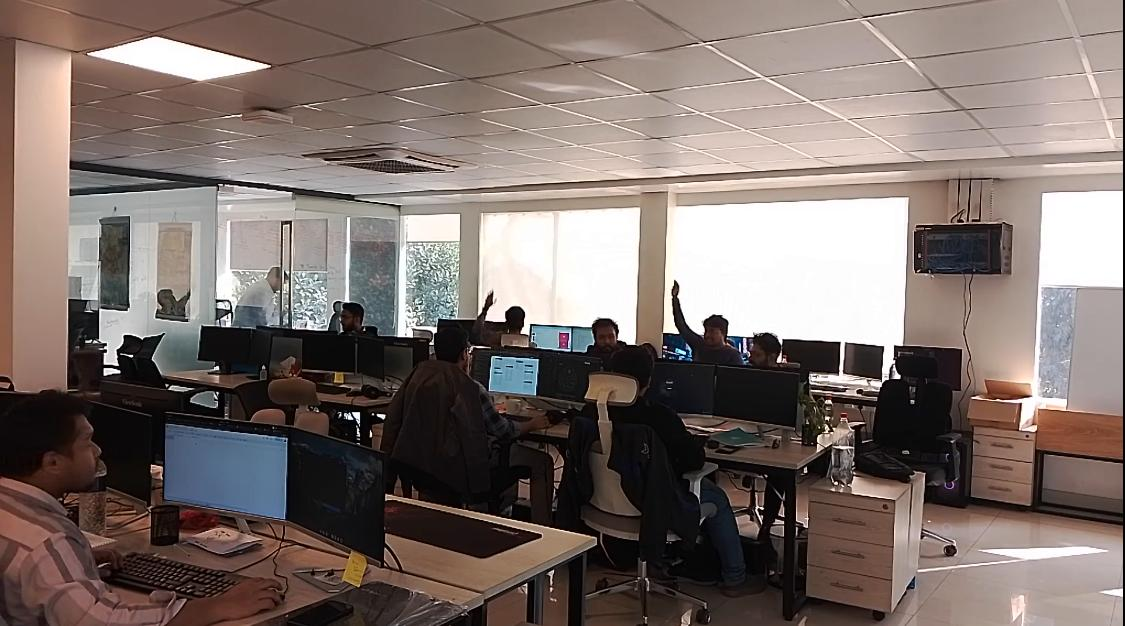hand: (663, 272, 702, 347), (470, 283, 502, 338)
